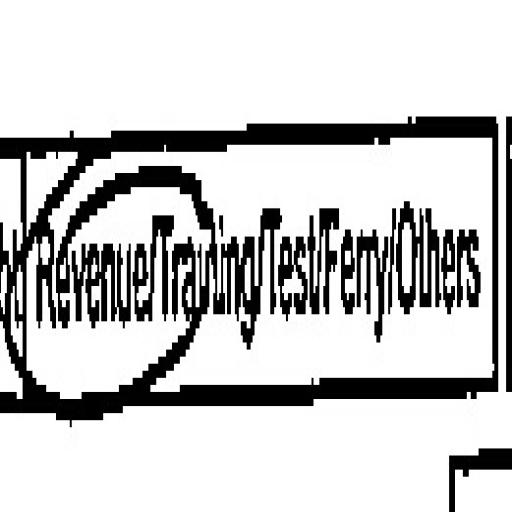check: (38, 103, 152, 461), (157, 52, 259, 420)
